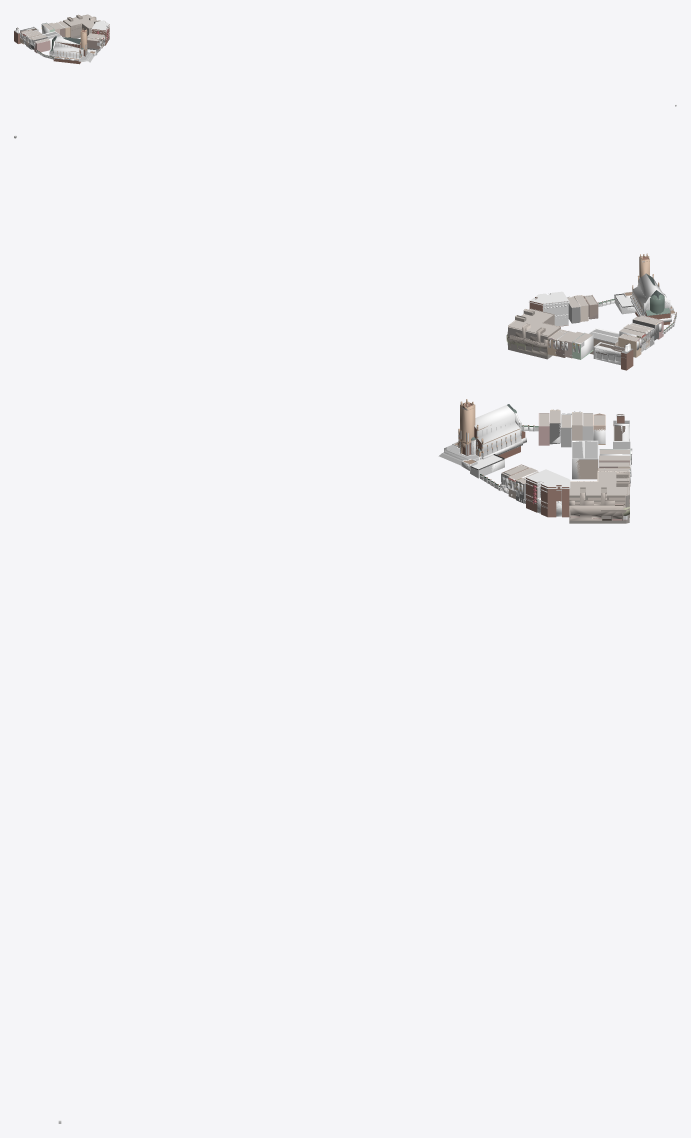
File: FireStation.dae
3 renders of one model, top to bottom at view 1: azimuth 30°, elevation 25°; view 2: azimuth 150°, elevation 25°; view 3: azimuth 270°, elevation 25°, orthographic. The views are drawn at different scales.
Parts seen in each view (by area): view 1: church_a700, Colmesh_church-1, church_a2000; view 2: church_a700, Colmesh_church-1, church_a2000; view 3: church_a700, Colmesh_church-1, church_a2000.
Boxes of the visible parts, bbox=[...] form: church_a700: bbox=[14, 14, 109, 64]; Colmesh_church-1: bbox=[16, 15, 108, 62]; church_a2000: bbox=[17, 14, 109, 60]; church_a700: bbox=[508, 254, 670, 370]; Colmesh_church-1: bbox=[506, 253, 676, 365]; church_a2000: bbox=[506, 261, 676, 361]; church_a700: bbox=[459, 401, 630, 523]; Colmesh_church-1: bbox=[438, 399, 632, 520]; church_a2000: bbox=[442, 407, 632, 520].
Bounding box in the file's own units: 912 × 435 × 204.
